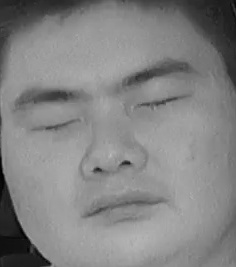blink: (134, 85, 190, 124), (32, 104, 87, 141)
mouth: (76, 183, 167, 231)
